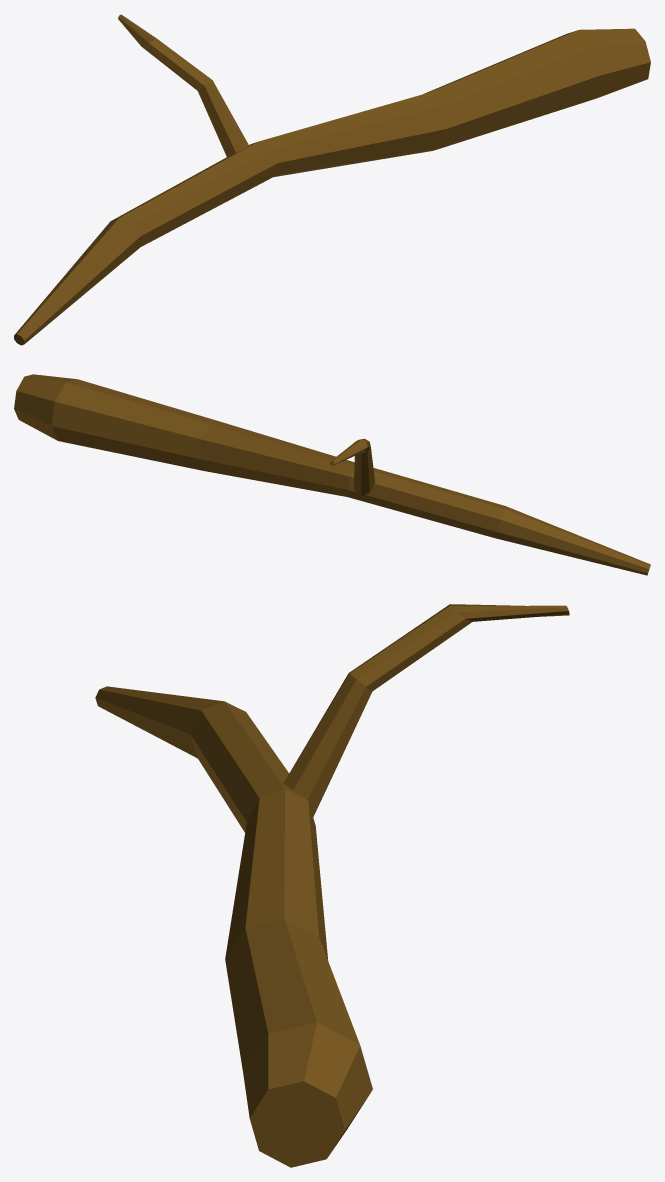
File: Ast_02_rdy.fbx
The picture shows the model from 3 angles, top to bottom: view 1: azimuth 30°, elevation 25°; view 2: azimuth 150°, elevation 25°; view 3: azimuth 270°, elevation 25°; orthographic projection. The views are drawn at different scales.
Parts seen in each view (by area): view 1: Ast_02; view 2: Ast_02; view 3: Ast_02.
Boxes of the visible parts, left/top/right/bottom form: Ast_02: left=14, top=14, right=650, bottom=345; Ast_02: left=14, top=374, right=650, bottom=575; Ast_02: left=95, top=604, right=569, bottom=1167.
Size of the model in its own units: 1103 by 272 by 392.
